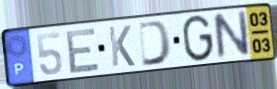5: (34, 30, 64, 77)
D: (137, 19, 174, 69)
E: (65, 25, 102, 75)
G: (181, 13, 215, 63)
K: (107, 24, 137, 69)
N: (210, 8, 252, 62)
